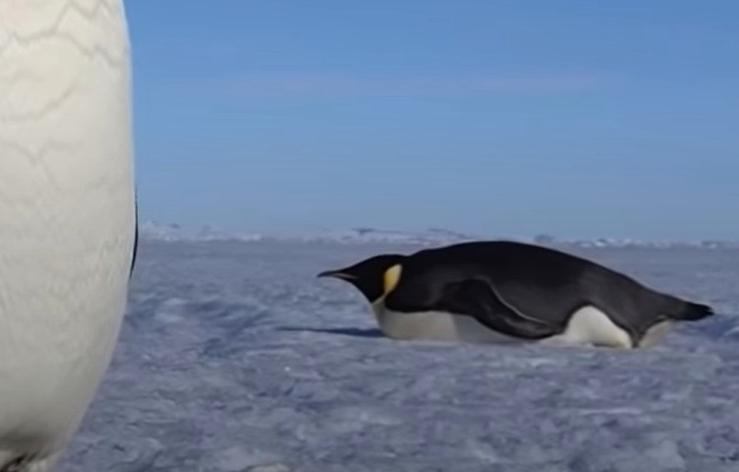Emperor Penguin: (0, 0, 215, 470), (304, 241, 714, 360)
